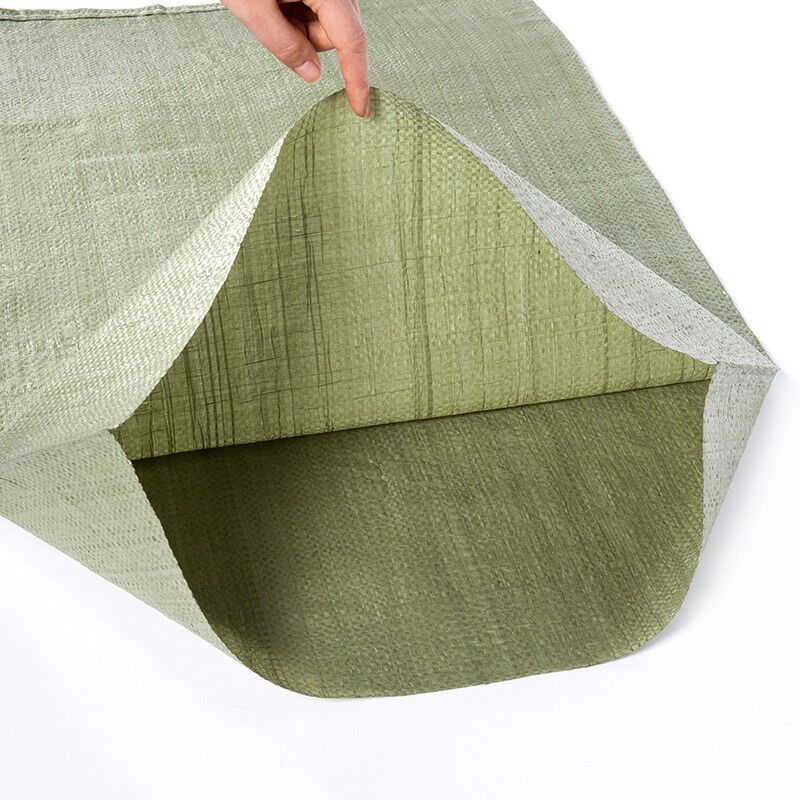塑料袋: (0, 0, 775, 697)
